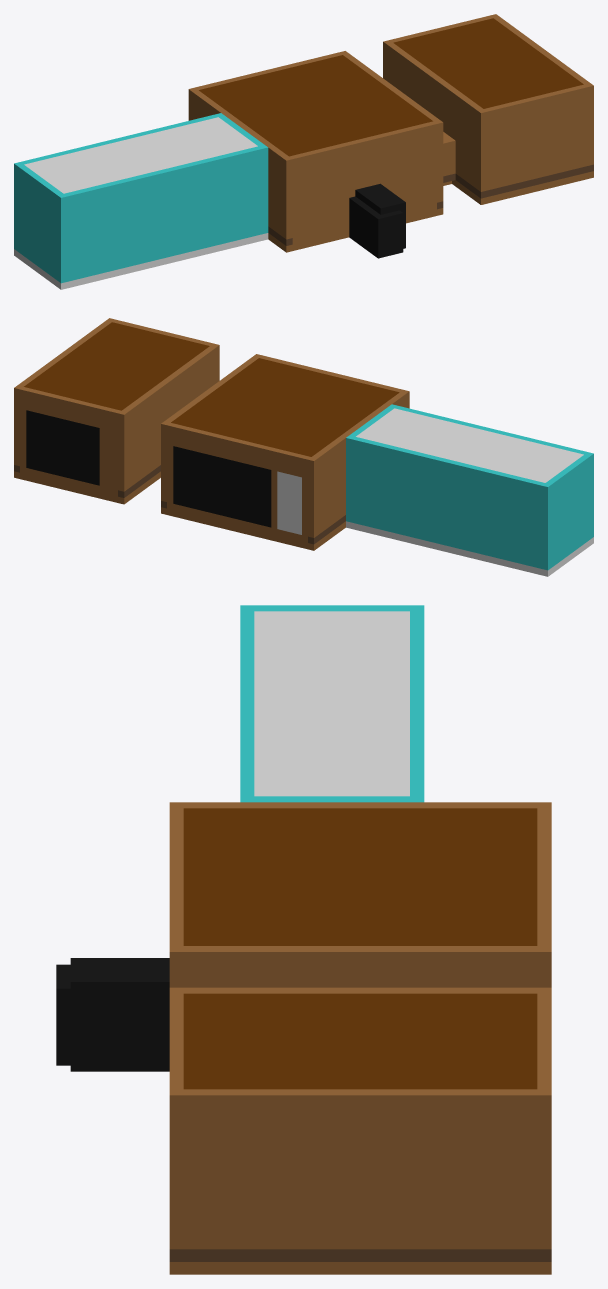
File: TaskRoomNew.obj
3 renders of one model, top to bottom at view 1: azimuth 30°, elevation 25°; view 2: azimuth 150°, elevation 25°; view 3: azimuth 270°, elevation 25°, orthographic. The views are drawn at different scales.
Size of the model in its own units: 8.2 by 1.4 by 3.5.
1 material, 1 textured.
